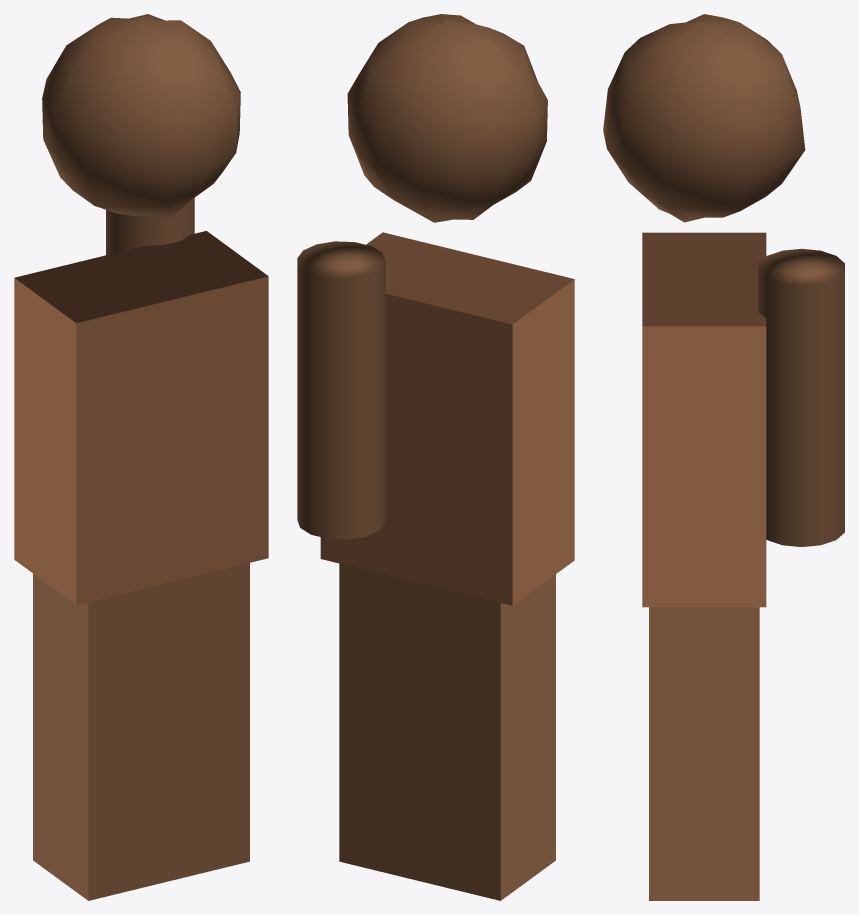
The model's file is arqueiro.obj.
3 views of the same model, side by side, from view 1: azimuth 30°, elevation 25°; view 2: azimuth 150°, elevation 25°; view 3: azimuth 270°, elevation 25° (orthographic).
Visible parts, largest first — view 1: tronco, pernas, capuz, aljava; view 2: tronco, pernas, capuz, aljava; view 3: tronco, pernas, capuz, aljava.
Part boxes in pixels (left/top/right/bottom): tronco: left=14, top=231, right=268, bottom=604; pernas: left=33, top=563, right=249, bottom=900; capuz: left=42, top=14, right=240, bottom=216; aljava: left=106, top=198, right=194, bottom=255; tronco: left=320, top=232, right=574, bottom=605; pernas: left=339, top=563, right=555, bottom=900; capuz: left=347, top=14, right=547, bottom=222; aljava: left=297, top=241, right=385, bottom=539; tronco: left=642, top=232, right=766, bottom=607; pernas: left=649, top=607, right=759, bottom=900; capuz: left=603, top=14, right=805, bottom=222; aljava: left=758, top=248, right=844, bottom=546.
Bounding box in the file's own units: 0.5 × 2.09 × 0.5457.
